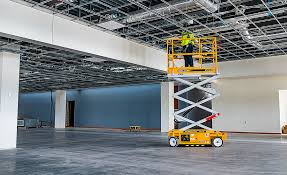Scissor Lift: (166, 35, 227, 150)
